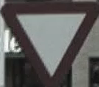Give way: (1, 3, 93, 80)
